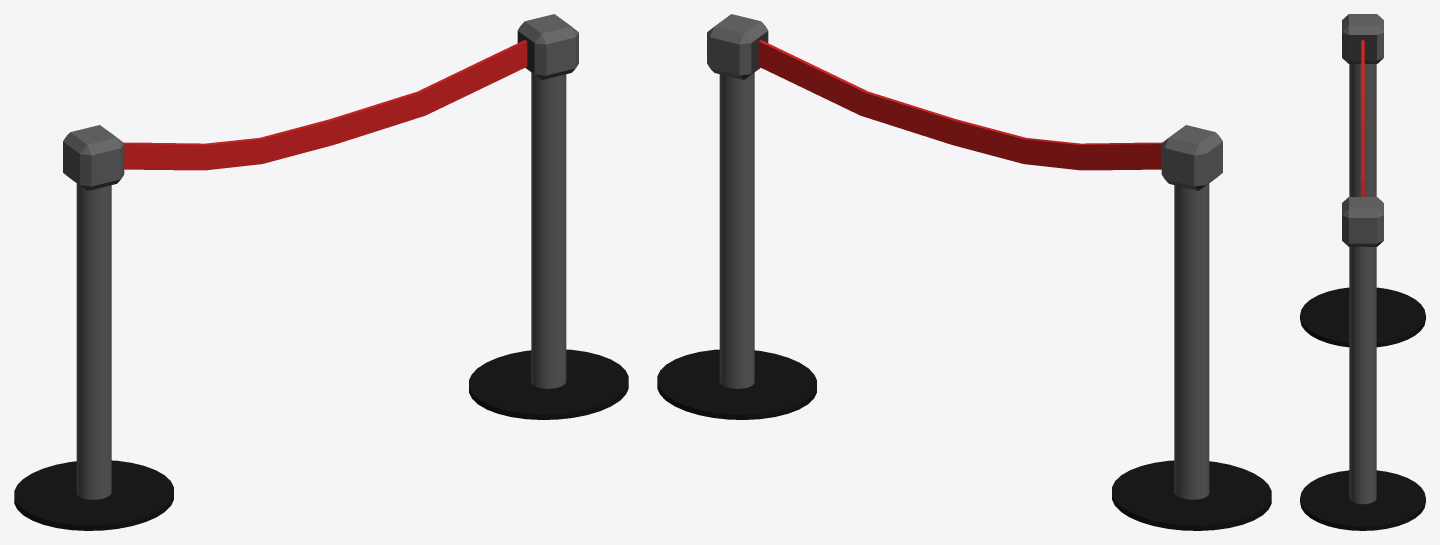
Rendered from ropeoff.fbx.
3 renders of one model, left to right at view 1: azimuth 30°, elevation 25°; view 2: azimuth 150°, elevation 25°; view 3: azimuth 270°, elevation 25°, orthographic. The views are drawn at different scales.
Visible parts, largest first — view 1: rope off; view 2: rope off; view 3: rope off.
Boxes of the visible parts, box(x1,y1,x2,y2) form: rope off: box(14, 14, 628, 530); rope off: box(657, 14, 1271, 530); rope off: box(1300, 14, 1425, 530).
Size of the model in its own units: 303 by 176 by 67.09.
